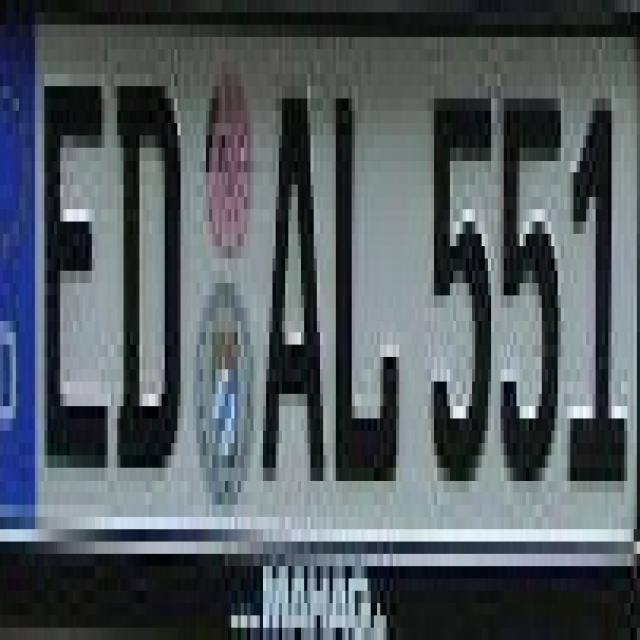1: (560, 86, 628, 517)
5: (422, 62, 494, 480), (497, 61, 561, 468)
A: (247, 37, 326, 492)
D: (114, 49, 190, 480)
E: (41, 62, 111, 480)
L: (330, 62, 400, 504)
